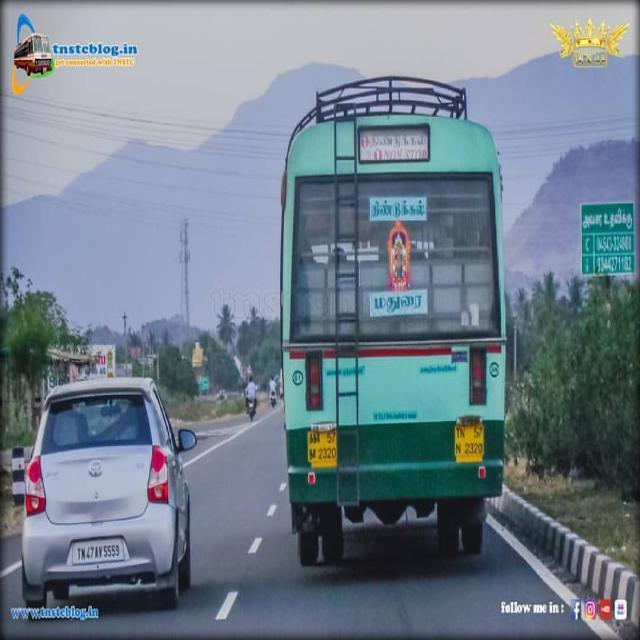Bus: (272, 73, 512, 572)
Car: (18, 374, 198, 612)
